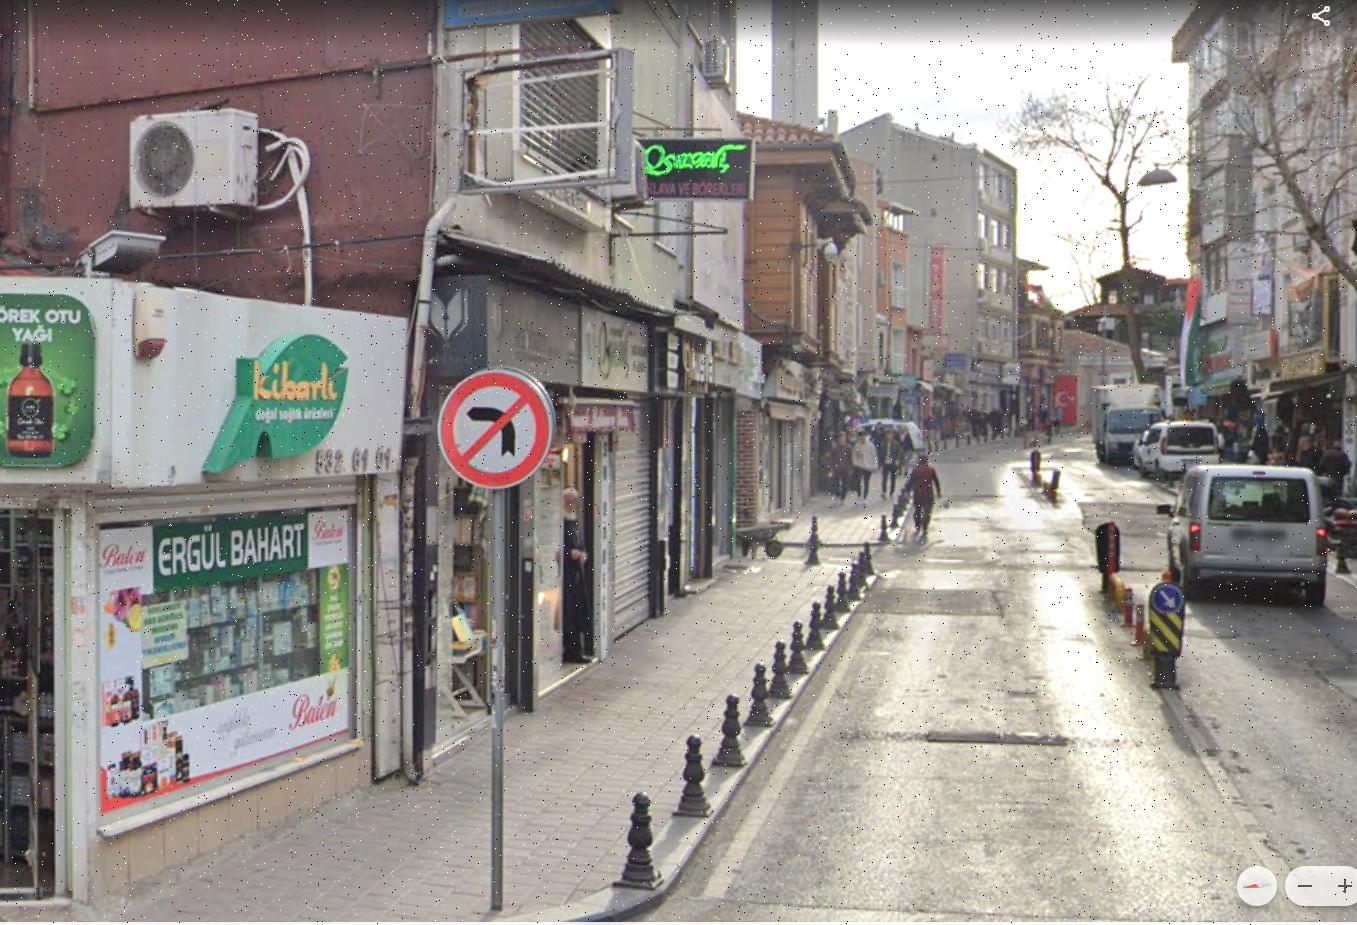leftturnsareforbidden: (438, 365, 551, 494)
